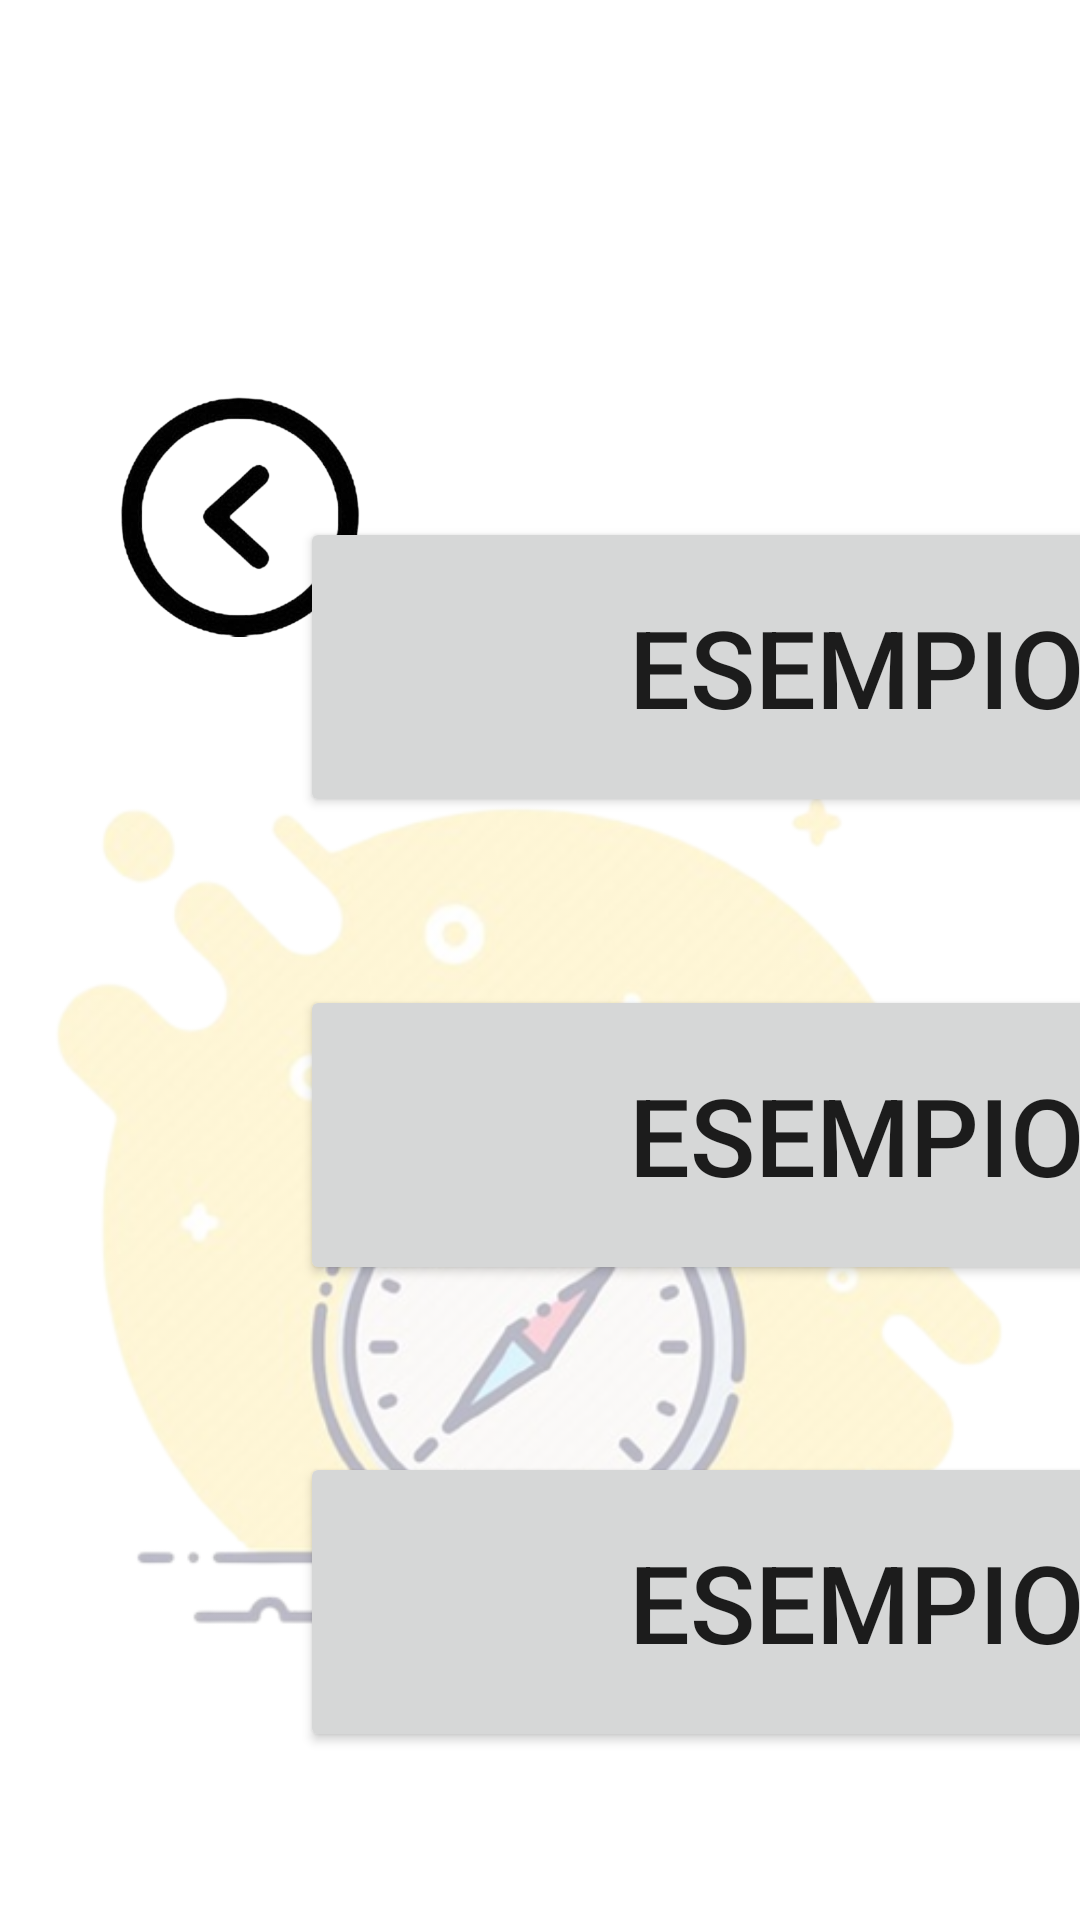

Icon bounding boxes for this 1080 × 1920 phone screenshot, format (x1, y1, x2, y2):
indietro: (121, 397, 360, 637)
